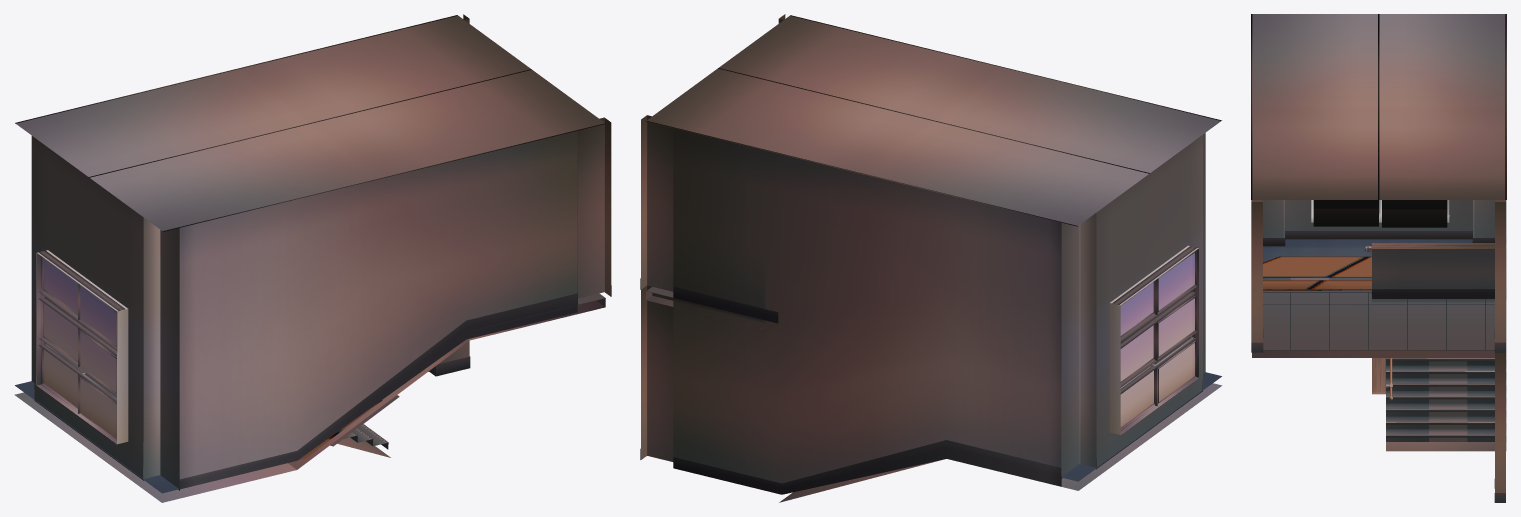
File: JpsStairs_ToRoofTop_evening.FBX
3 views of the same model, side by side, from view 1: azimuth 30°, elevation 25°; view 2: azimuth 150°, elevation 25°; view 3: azimuth 270°, elevation 25° (orthographic). The views are drawn at different scales.
Visible parts, largest first — view 1: Sta_ToRoofTop_wallB_eve, Sta_ToRoofTop_StairsCeiling_eve, Sta_ToRoofTop_window_eve, Sta_ToRoofTop_stairs_eve, Sta_ToRoofTop_wallF_eve; view 2: Sta_ToRoofTop_wallF_eve, Sta_ToRoofTop_StairsCeiling_eve, Sta_ToRoofTop_window_eve, Sta_ToRoofTop_stairs_eve; view 3: Sta_ToRoofTop_StairsCeiling_eve, Sta_ToRoofTop_stairs_eve, Sta_ToRoofTop_window_eve, Sta_ToRoofTop_beam01_add_eve001, Sta_ToRoofTop_spotF_eve, Sta_ToRoofTop_wallF_eve, Sta_ToRoofTop_baseboards_eve, Sta_ToRoofTop_wallB_eve.
Part boxes in pixels (x1,y1,x2,y2): Sta_ToRoofTop_wallB_eve: [179, 117, 611, 489]; Sta_ToRoofTop_StairsCeiling_eve: [15, 15, 605, 231]; Sta_ToRoofTop_window_eve: [31, 136, 179, 489]; Sta_ToRoofTop_stairs_eve: [14, 293, 605, 502]; Sta_ToRoofTop_wallF_eve: [428, 14, 470, 376]; Sta_ToRoofTop_wallF_eve: [640, 115, 1061, 494]; Sta_ToRoofTop_StairsCeiling_eve: [646, 15, 1221, 226]; Sta_ToRoofTop_window_eve: [1061, 133, 1205, 477]; Sta_ToRoofTop_stairs_eve: [646, 286, 1222, 502]; Sta_ToRoofTop_StairsCeiling_eve: [1251, 14, 1506, 199]; Sta_ToRoofTop_stairs_eve: [1252, 239, 1506, 451]; Sta_ToRoofTop_window_eve: [1263, 200, 1506, 237]; Sta_ToRoofTop_beam01_add_eve001: [1313, 200, 1447, 227]; Sta_ToRoofTop_spotF_eve: [1263, 256, 1371, 290]; Sta_ToRoofTop_wallF_eve: [1494, 200, 1505, 502]; Sta_ToRoofTop_baseboards_eve: [1263, 231, 1506, 246]; Sta_ToRoofTop_wallB_eve: [1251, 200, 1263, 352].
Bounding box in the file's own units: 826 × 616 × 463.
